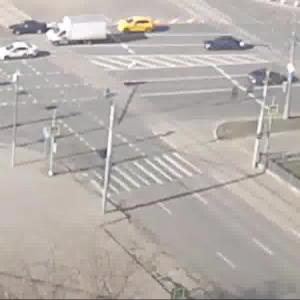car: (48, 19, 109, 50), (201, 36, 251, 56), (244, 68, 287, 90), (113, 15, 156, 36), (5, 18, 43, 38), (1, 43, 40, 62)
